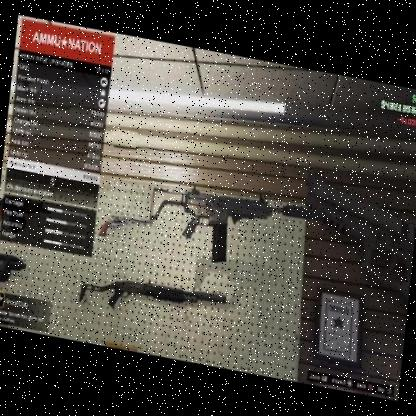rifle: (143, 176, 281, 272)
